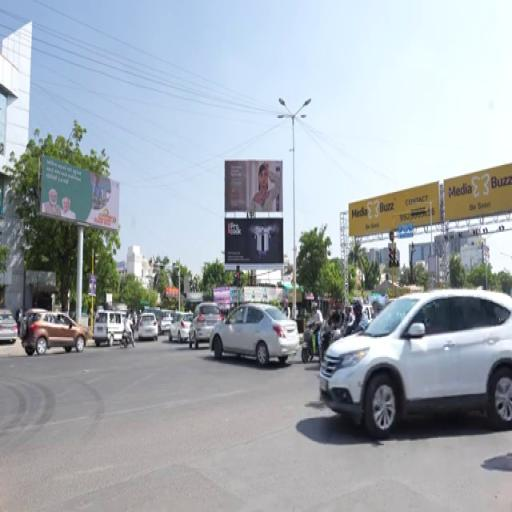Car: (320, 291, 511, 439), (210, 303, 299, 365), (22, 311, 87, 355), (189, 302, 222, 349), (94, 311, 124, 347), (169, 312, 192, 342), (0, 309, 17, 344), (138, 313, 158, 341), (157, 311, 172, 334), (363, 305, 375, 322)
